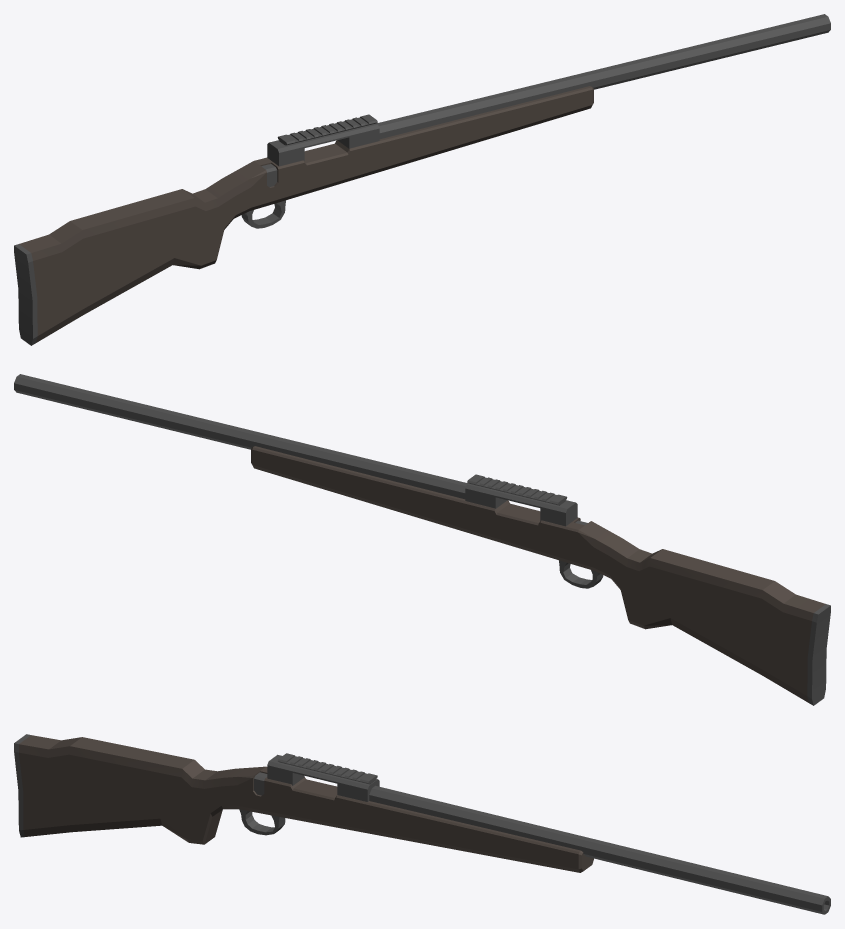
The model's file is SniperRifle3_05.fbx.
3 renders of one model, top to bottom at view 1: azimuth 30°, elevation 25°; view 2: azimuth 150°, elevation 25°; view 3: azimuth 330°, elevation 25°, orthographic.
Parts seen in each view (by area): view 1: SniperRifle3_05; view 2: SniperRifle3_05; view 3: SniperRifle3_05.
Part boxes in pixels (<box>): SniperRifle3_05: <box>14,14,830,345</box>; SniperRifle3_05: <box>14,374,830,705</box>; SniperRifle3_05: <box>14,734,830,914</box>.
Bounding box in the file's own units: 1.22 × 0.2029 × 0.0371.
